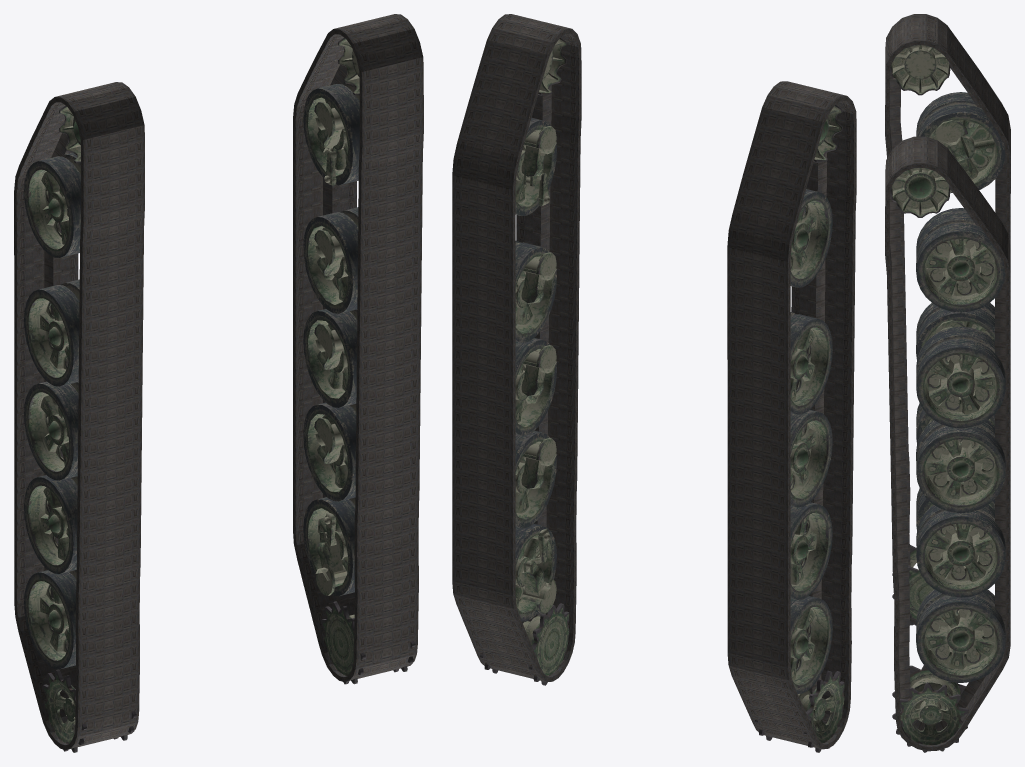
The model's file is Chassis.glb.
3 views of the same model, side by side, from view 1: azimuth 30°, elevation 25°; view 2: azimuth 150°, elevation 25°; view 3: azimuth 270°, elevation 25° (orthographic). The views are drawn at different scales.
Parts seen in each view (by area): view 1: set_0_group_0, set_1_group_0, set_2_group_0, set_3_group_0; view 2: set_0_group_0, set_1_group_0, set_3_group_0, set_2_group_0; view 3: set_3_group_0, set_1_group_0, set_2_group_0, set_0_group_0.
Boxes of the visible parts, bbox=[...] form: set_0_group_0: bbox=[14, 82, 144, 749]; set_1_group_0: bbox=[293, 14, 423, 681]; set_2_group_0: bbox=[24, 105, 136, 752]; set_3_group_0: bbox=[303, 38, 415, 684]; set_0_group_0: bbox=[727, 81, 856, 749]; set_1_group_0: bbox=[452, 14, 581, 682]; set_3_group_0: bbox=[480, 38, 569, 685]; set_2_group_0: bbox=[754, 105, 844, 752]; set_3_group_0: bbox=[890, 168, 1005, 752]; set_1_group_0: bbox=[885, 136, 1010, 751]; set_2_group_0: bbox=[890, 45, 1005, 625]; set_0_group_0: bbox=[885, 14, 1010, 625].
Size of the model in its own units: 3.2 by 5.9 by 1.14.
Materials: 4 (4 with a texture image).
